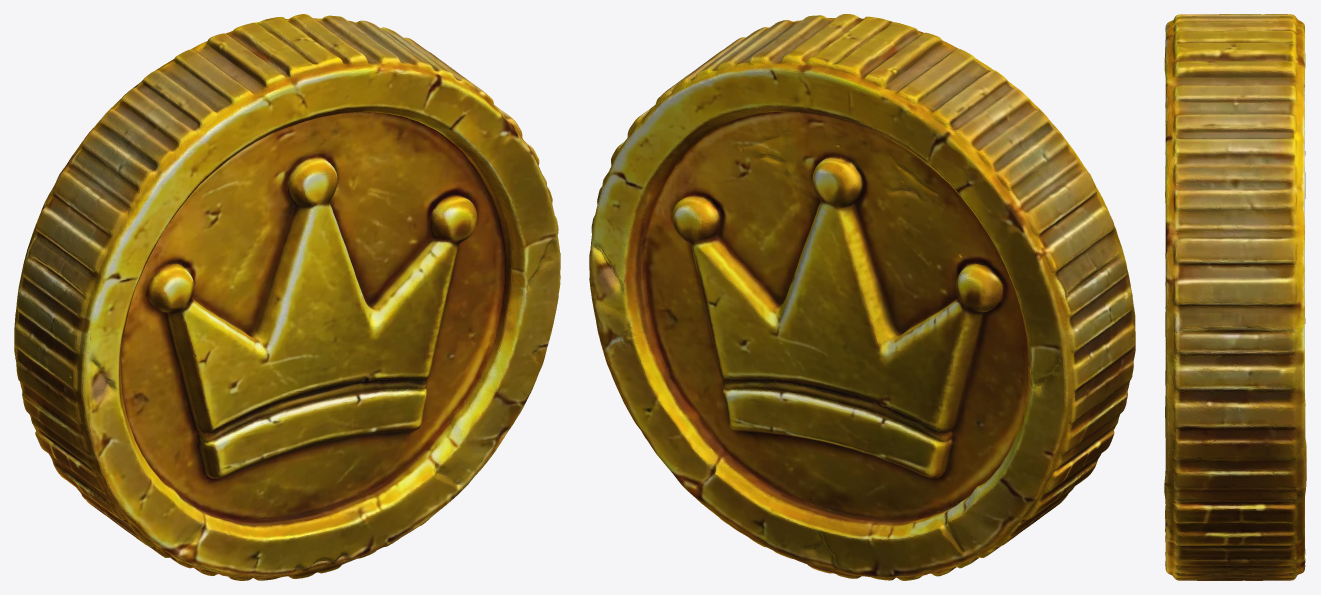
Rendered from coinWithMesh_00001_.glb.
3 views of the same model, side by side, from view 1: azimuth 30°, elevation 25°; view 2: azimuth 150°, elevation 25°; view 3: azimuth 270°, elevation 25° (orthographic).
Parts seen in each view (by area): view 1: geometry_0; view 2: geometry_0; view 3: geometry_0.
Part boxes in pixels (<box>): geometry_0: <box>14,14,560,580</box>; geometry_0: <box>589,14,1135,580</box>; geometry_0: <box>1164,14,1306,580</box>.
Size of the model in its own units: 0.9977 by 1 by 0.2516.
1 material, 1 textured.
